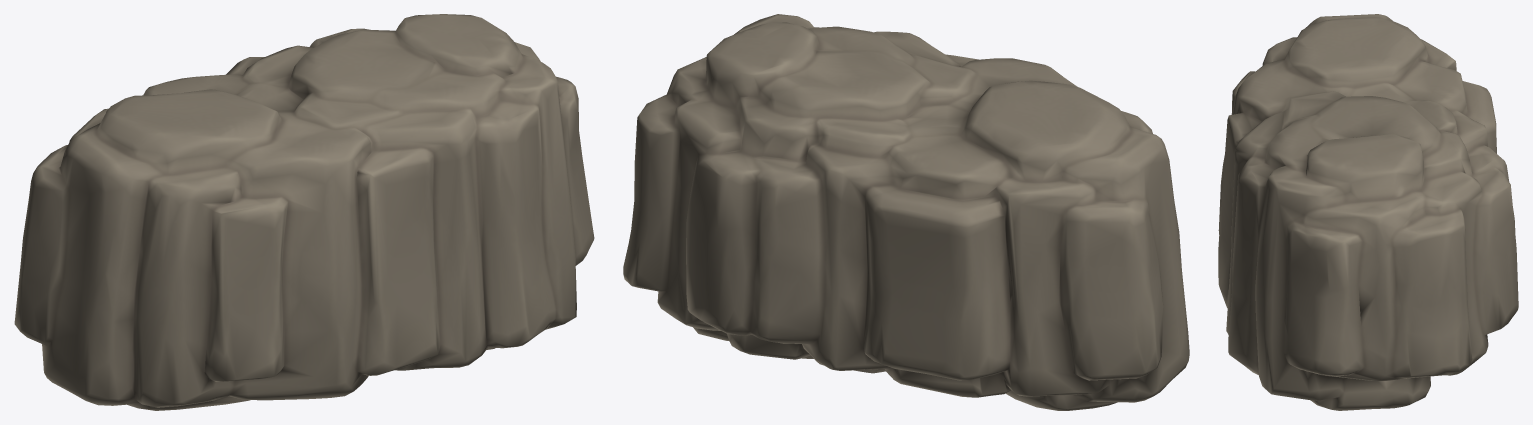
Rendered from boarderCliff2_lod.fbx.
3 views of the same model, side by side, from view 1: azimuth 30°, elevation 25°; view 2: azimuth 150°, elevation 25°; view 3: azimuth 270°, elevation 25° (orthographic). The views are drawn at different scales.
Visible parts, largest first — view 1: cliff2_LOD0; view 2: cliff2_LOD0; view 3: cliff2_LOD0.
Part boxes in pixels (x1,y1,x2,y2): cliff2_LOD0: (14,14,594,410); cliff2_LOD0: (623,14,1189,410); cliff2_LOD0: (1218,14,1518,410).
Size of what is drawn, in the model's own units: 1252 by 636 by 728.
Materials: 1 (1 with a texture image).
